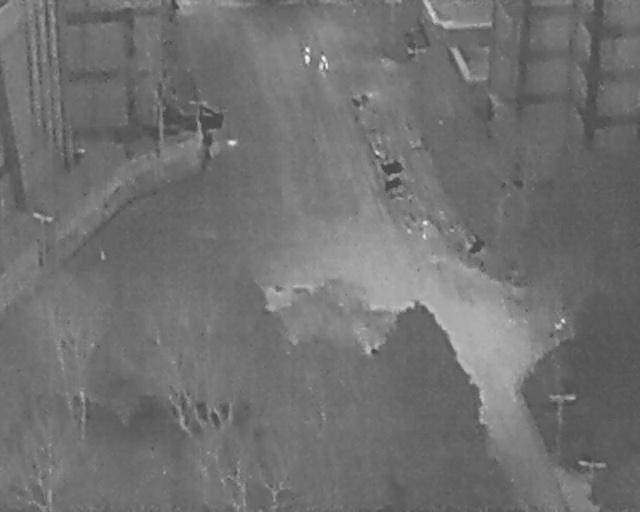Person: (551, 315, 568, 333), (318, 53, 330, 73), (303, 46, 311, 66), (422, 218, 429, 240)
